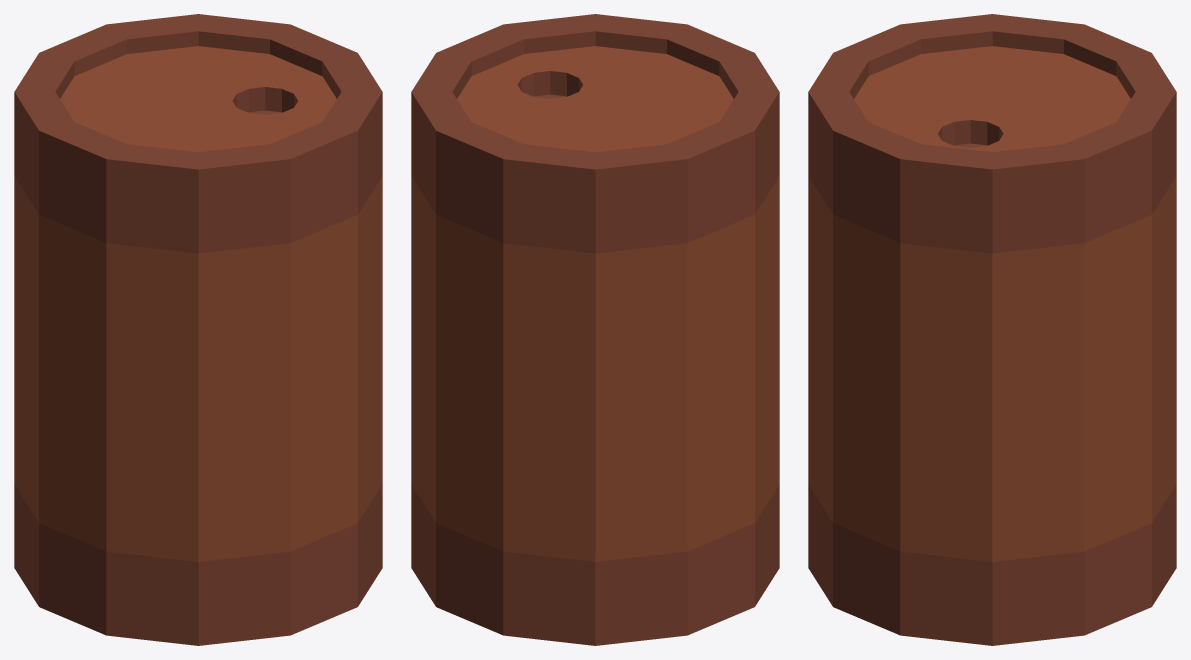
The model's file is SM_Props_Food_02.fbx.
The picture shows the model from 3 angles, left to right: view 1: azimuth 30°, elevation 25°; view 2: azimuth 150°, elevation 25°; view 3: azimuth 270°, elevation 25°; orthographic projection.
Visible parts, largest first — view 1: SM_Props_Food_02; view 2: SM_Props_Food_02; view 3: SM_Props_Food_02.
Boxes of the visible parts, left/top/right/bottom form: SM_Props_Food_02: left=14, top=14, right=382, bottom=645; SM_Props_Food_02: left=411, top=14, right=779, bottom=645; SM_Props_Food_02: left=808, top=14, right=1176, bottom=645.
Bounding box in the file's own units: 0.0527 × 0.0752 × 0.0527.
